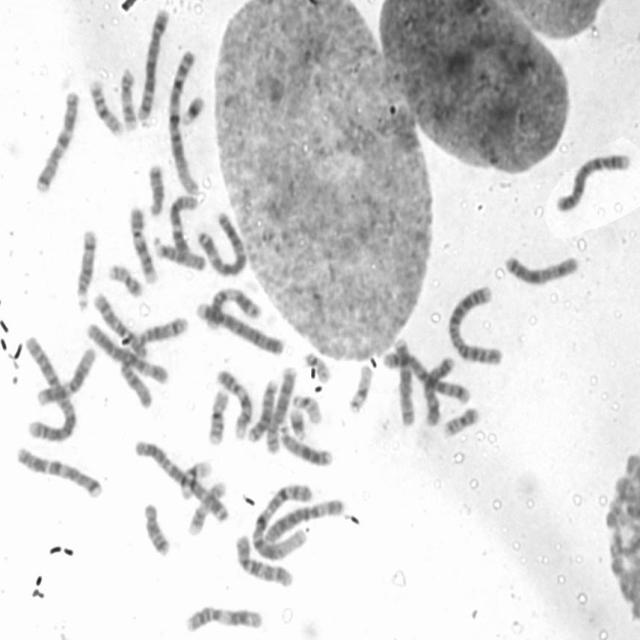A1: (164, 46, 202, 200), (248, 480, 313, 561)
A2: (20, 333, 77, 444), (444, 281, 506, 365)
A3: (132, 435, 230, 523), (194, 208, 248, 277)
B4: (193, 298, 285, 356), (552, 149, 632, 214)
B5: (379, 346, 472, 406), (134, 6, 170, 122)
C10: (90, 288, 149, 358), (232, 531, 294, 589)
C11: (201, 283, 261, 331), (182, 603, 264, 633)
C12: (33, 343, 97, 408), (166, 191, 200, 259)
C6: (83, 320, 170, 386), (258, 494, 346, 546)
C7: (31, 86, 81, 195), (13, 443, 104, 499)
C8: (263, 363, 298, 456), (391, 334, 417, 429)
C9: (214, 366, 253, 442), (126, 203, 160, 285)
D13: (276, 421, 334, 468), (246, 376, 278, 443)
D14: (72, 226, 98, 312), (135, 312, 189, 344)
D15: (150, 233, 207, 273), (117, 352, 155, 412)
E16: (85, 75, 124, 137), (203, 385, 231, 446)
E17: (184, 477, 228, 537), (118, 65, 138, 132)
E18: (141, 498, 171, 558), (144, 161, 166, 218)
F19: (177, 457, 213, 501), (346, 362, 374, 414)
F20: (107, 260, 145, 299), (440, 403, 480, 438)
G21: (178, 92, 206, 127), (287, 405, 307, 440)
G22: (289, 391, 324, 425), (301, 348, 332, 384)
X: (501, 251, 580, 287), (420, 352, 456, 427)
